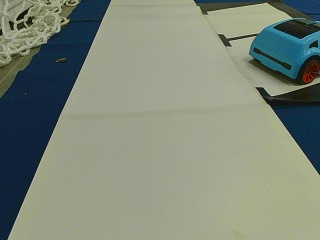car: (248, 16, 318, 84)
